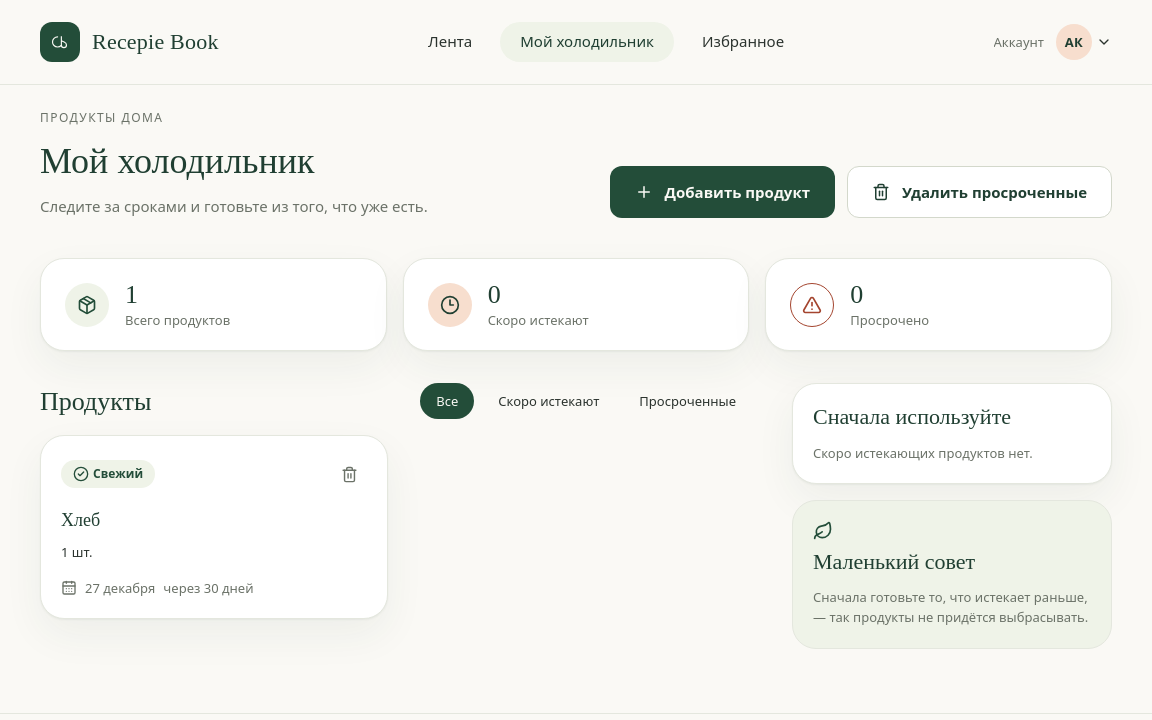
Test: fridge page › shows an empty state when the filter has no matches
Expected: the heading "Хлеб" is shown, [61,510,100,530]
Step 1. Click the button "Просроченные" → (688, 401), box [623,383,752,419]
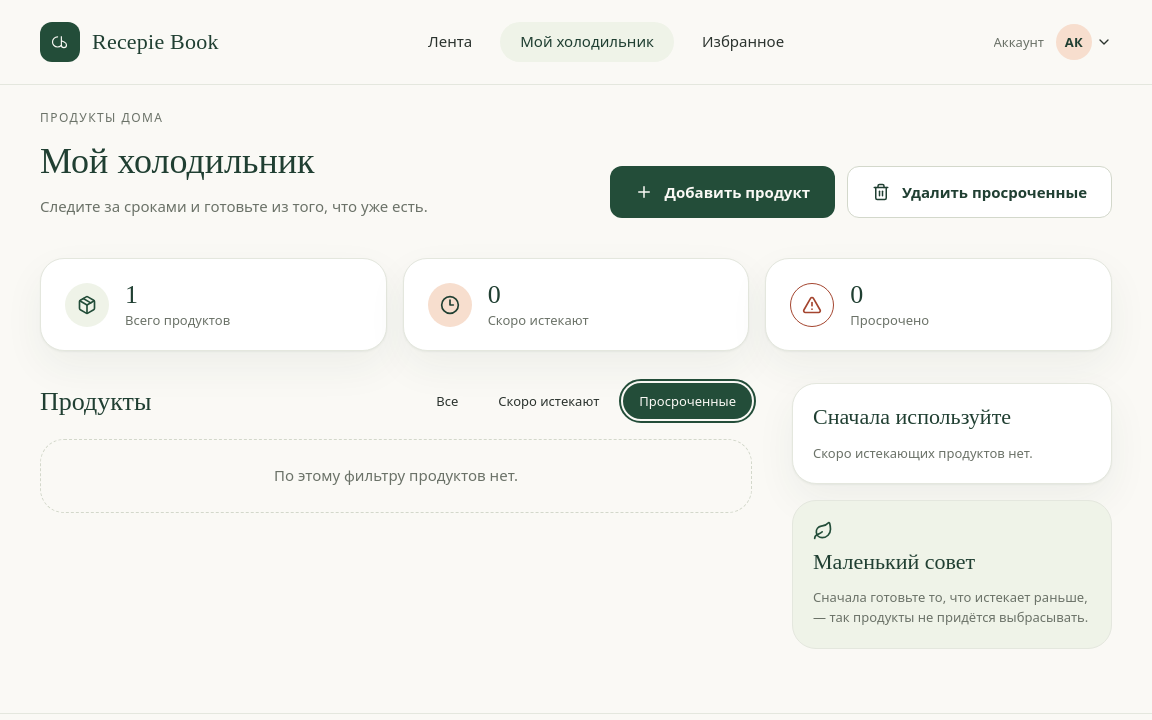
Expected: the text "По этому фильтру продуктов нет." is shown, [40,439,752,513]
